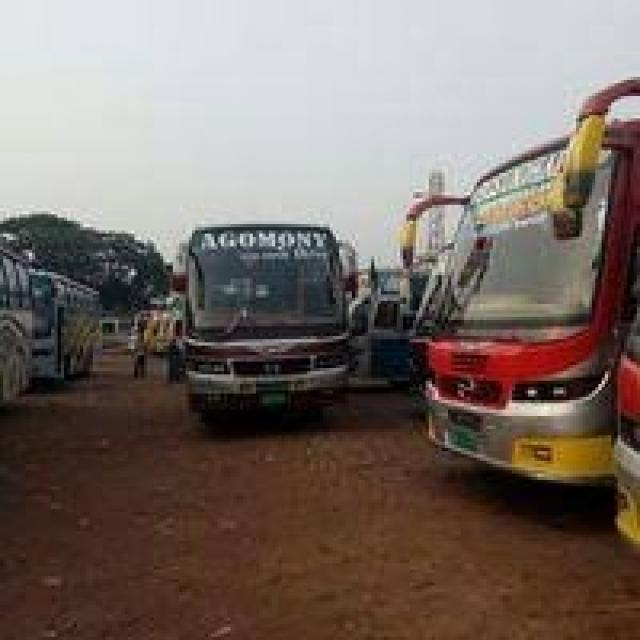bus: (392, 68, 634, 526), (169, 207, 364, 445)
